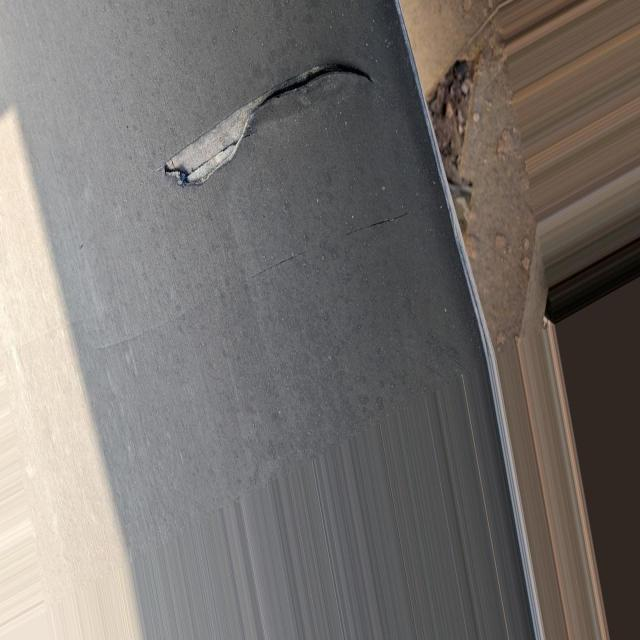Tear: (164, 63, 372, 183)
